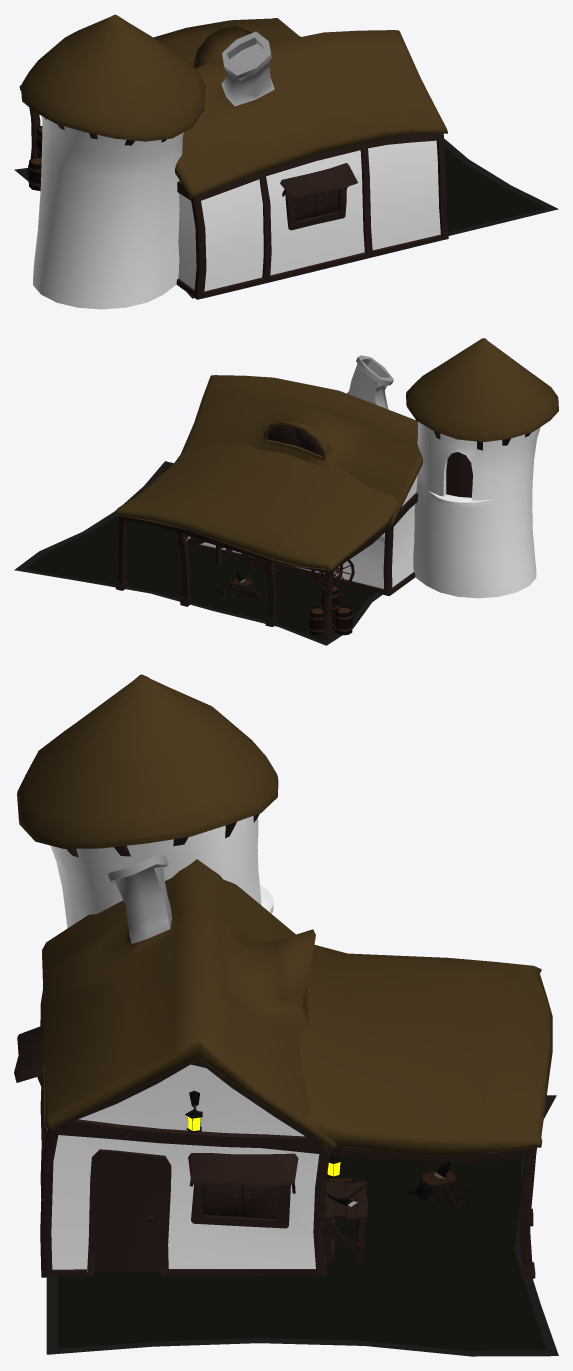
Rendered from CityTest.FBX.
3 views of the same model, one above another, from view 1: azimuth 30°, elevation 25°; view 2: azimuth 150°, elevation 25°; view 3: azimuth 270°, elevation 25° (orthographic). The views are drawn at different scales.
Parts seen in each view (by area): view 1: Box001, Cylinder001, Box007, Plane003, Box010, Window001, Box020, Cylinder006; view 2: Cylinder001, Box001, Box010, Plane003, Box009, Box007, Cylinder009, Cylinder006, Cylinder005; view 3: Box001, Plane003, Box010, Cylinder001, Box007, Box008, Window002, Box015, Box009, Box014, Box020, Cylinder009.
Part boxes in pixels (<box>): Box001: <box>175,26,447,291</box>; Cylinder001: <box>21,14,205,309</box>; Box007: <box>176,133,448,299</box>; Plane003: <box>14,138,558,298</box>; Box010: <box>19,18,300,90</box>; Window001: <box>285,187,346,230</box>; Box020: <box>280,163,357,198</box>; Cylinder006: <box>28,156,41,190</box>; Cylinder001: <box>406,338,558,598</box>; Box001: <box>181,355,423,588</box>; Box010: <box>114,443,397,571</box>; Plane003: <box>14,461,382,645</box>; Box009: <box>115,516,390,639</box>; Box007: <box>177,492,418,595</box>; Cylinder009: <box>228,577,261,600</box>; Cylinder006: <box>334,606,352,635</box>; Cylinder005: <box>309,607,323,635</box>; Box001: <box>42,856,337,1271</box>; Plane003: <box>46,1095,558,1356</box>; Box010: <box>300,944,552,1156</box>; Cylinder001: <box>17,674,278,928</box>; Box007: <box>40,990,330,1277</box>; Box008: <box>87,1149,171,1275</box>; Window002: <box>191,1184,290,1228</box>; Box015: <box>188,1153,298,1193</box>; Box009: <box>330,1146,536,1278</box>; Box014: <box>324,1180,368,1264</box>; Box020: <box>14,1025,43,1092</box>; Cylinder009: <box>407,1170,474,1209</box>.
Size of the model in its own units: 1199 by 633 by 795.
